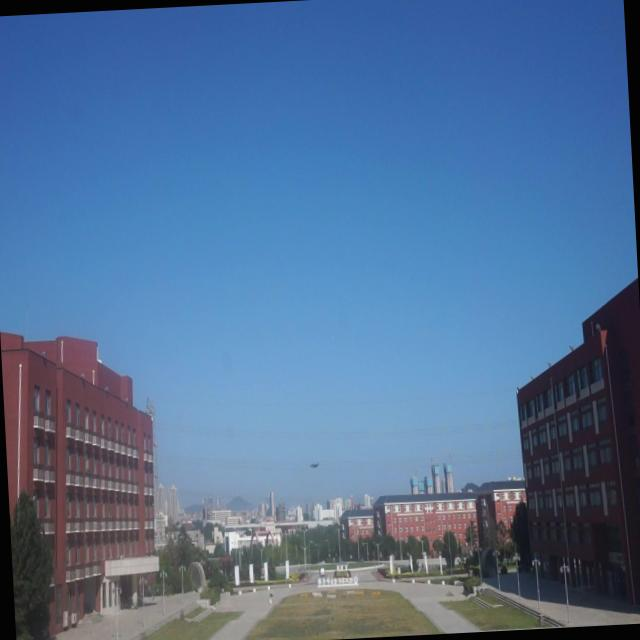drone: (306, 458, 321, 474)
